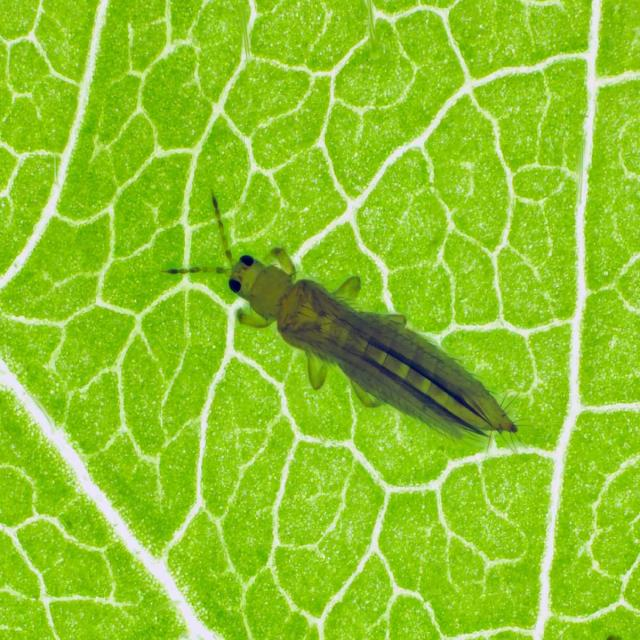Thrip-Adult-: (160, 189, 532, 459)
